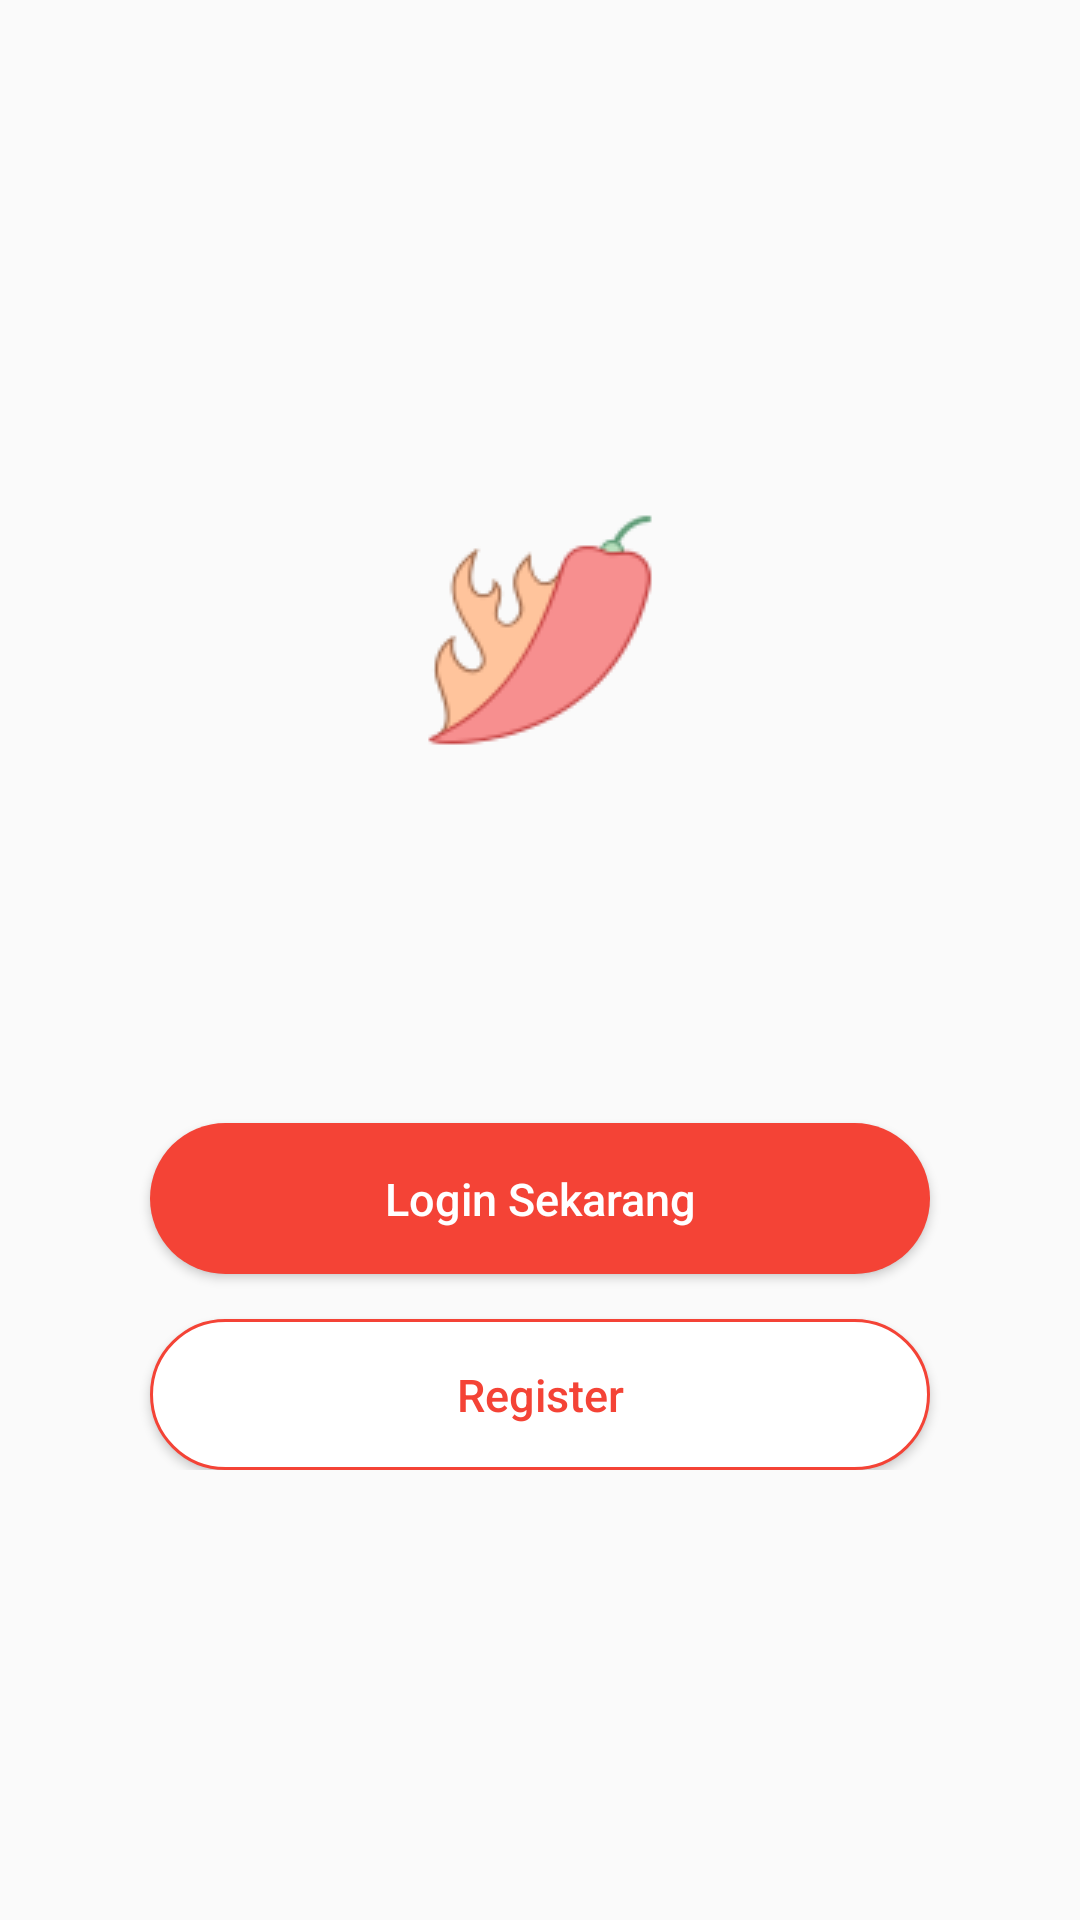

Icon click points for this 1080w x 1920h phone screenshot, format [x,y]:
chili: [540,630]
